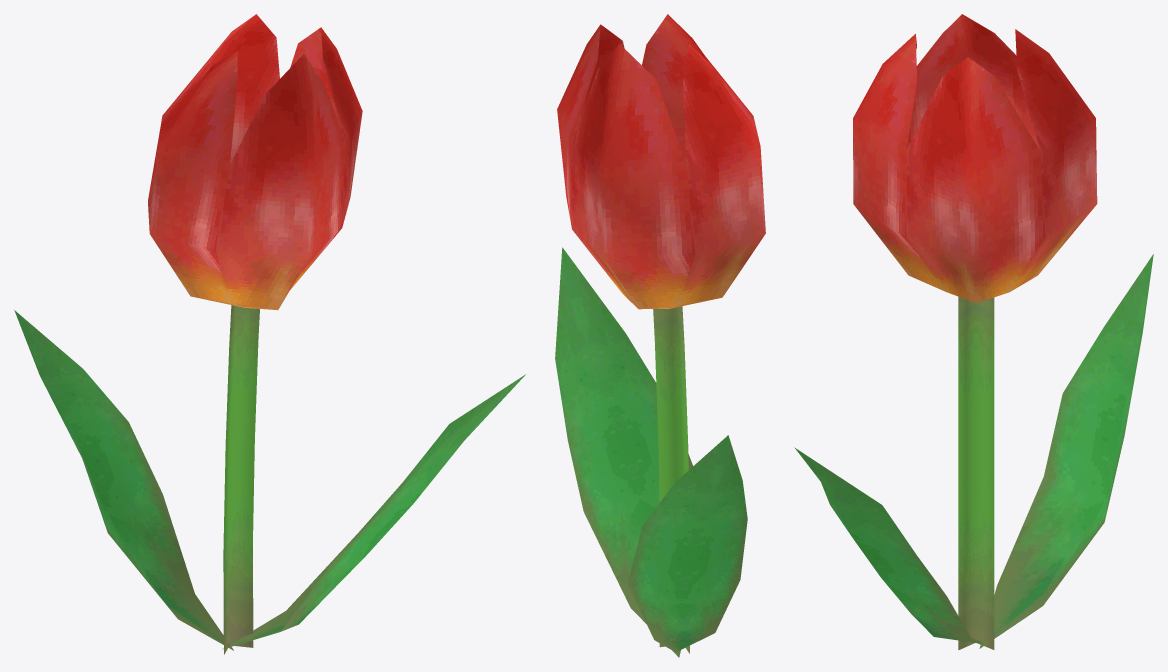
The model's file is ps2_save-icons_allstarfighters.glb.
3 renders of one model, left to right at view 1: azimuth 30°, elevation 25°; view 2: azimuth 150°, elevation 25°; view 3: azimuth 270°, elevation 25°, orthographic. The views are drawn at different scales.
Parts seen in each view (by area): view 1: zero.ico; view 2: zero.ico; view 3: zero.ico.
Boxes of the visible parts, box(x1,y1,x2,y2) form: zero.ico: box(14, 14, 525, 654); zero.ico: box(555, 14, 765, 657); zero.ico: box(794, 14, 1153, 650).
Bounding box in the file's own units: 2.48 × 4.29 × 2.19.
1 material, 1 textured.
